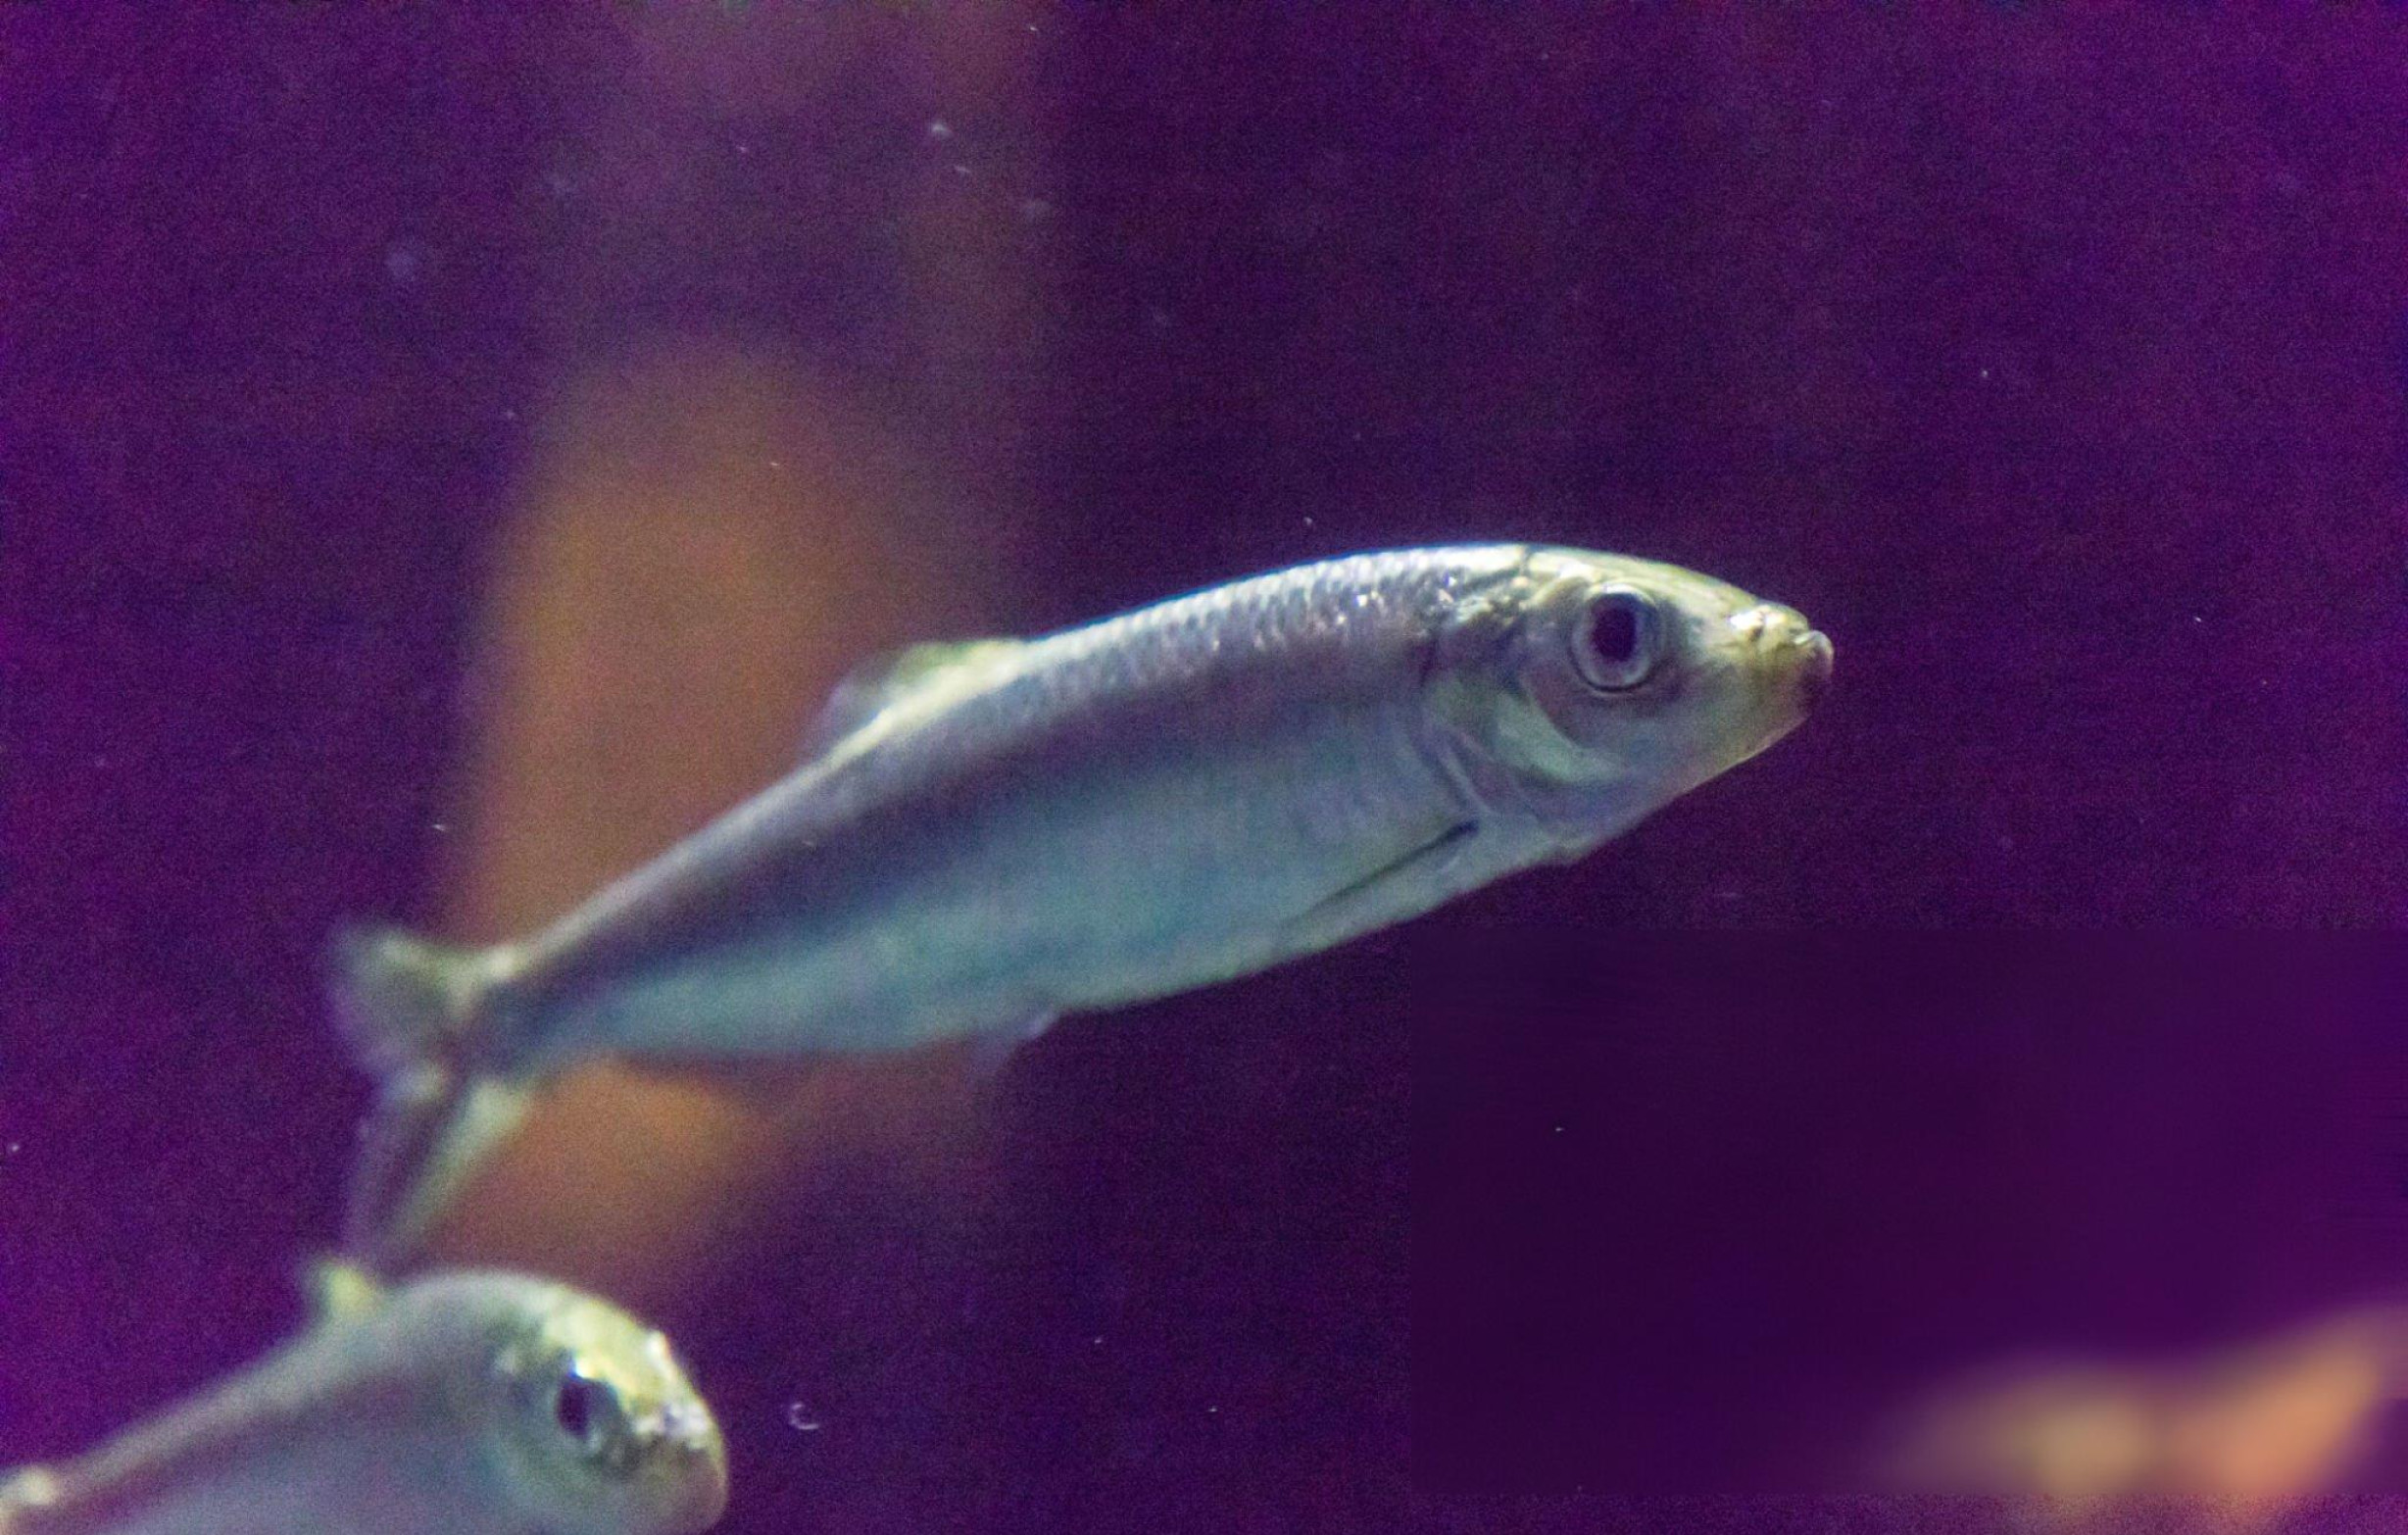Pecific herring: (318, 508, 1843, 1280), (2, 1256, 751, 1524)
